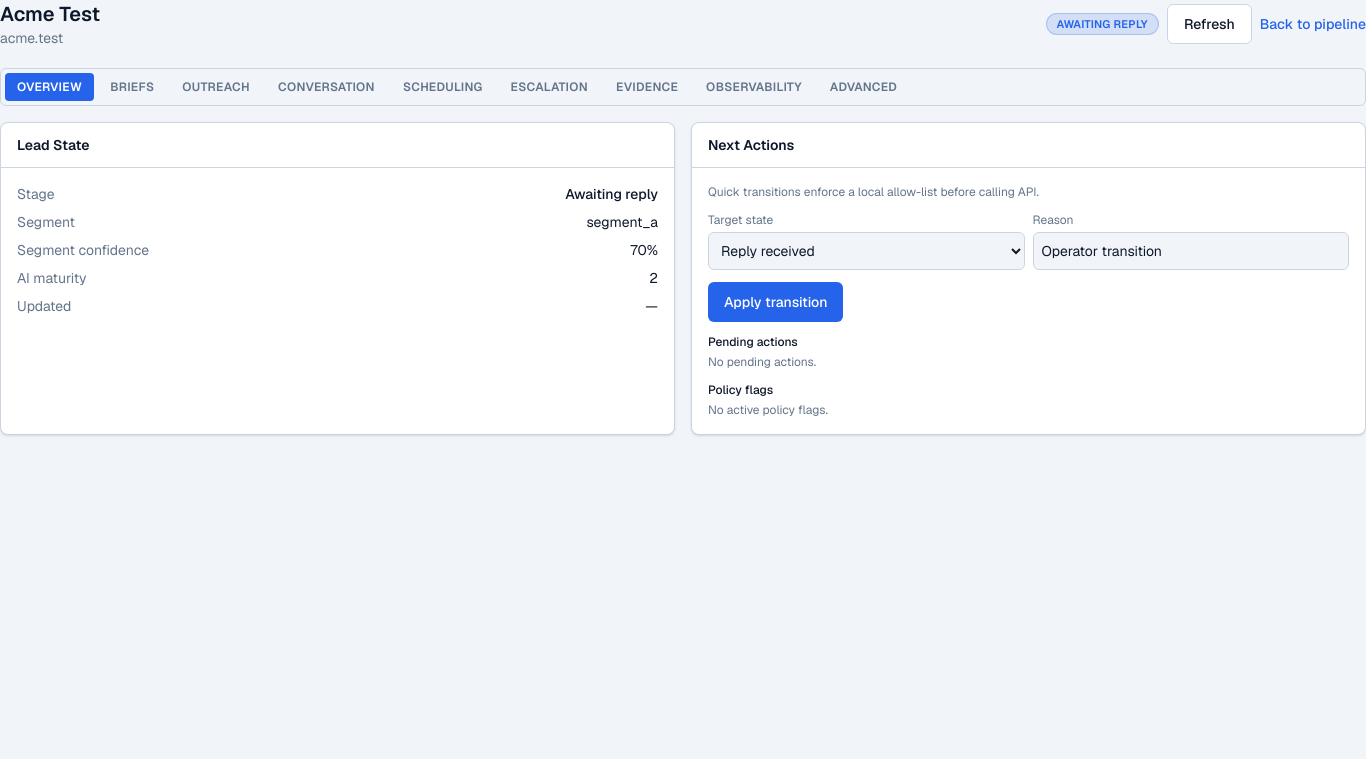
Test: LeadDetail › sends scheduling SMS follow-up when schedule action is active
The image size is (1366, 759).
expect the heading "Acme Test" is shown: met, box [0,0,100,28]
Click the tab "Conversation" at point(326, 87), box [266,73,387,101]
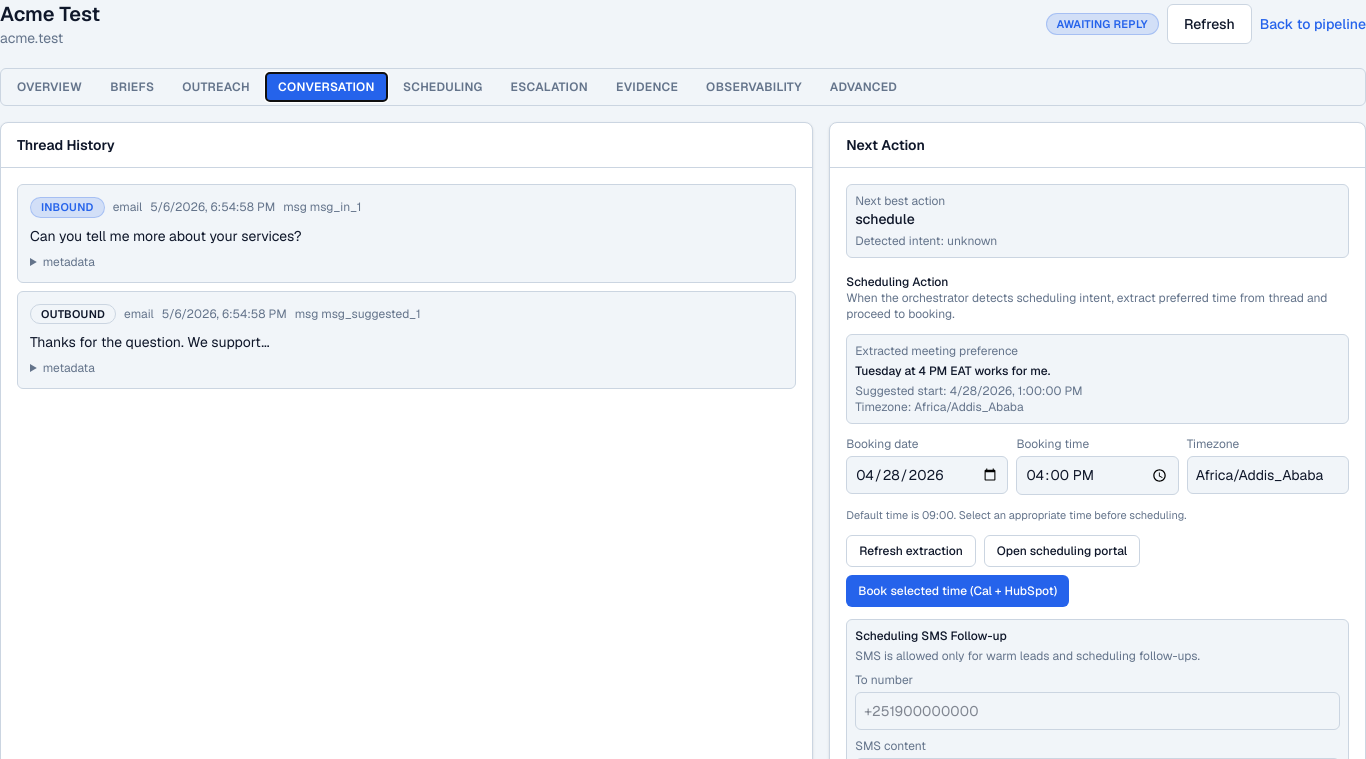
Type "+251900000123" into the field labelled "To number" at point(1098, 711), box [855,692,1340,730]
(page scrolled)
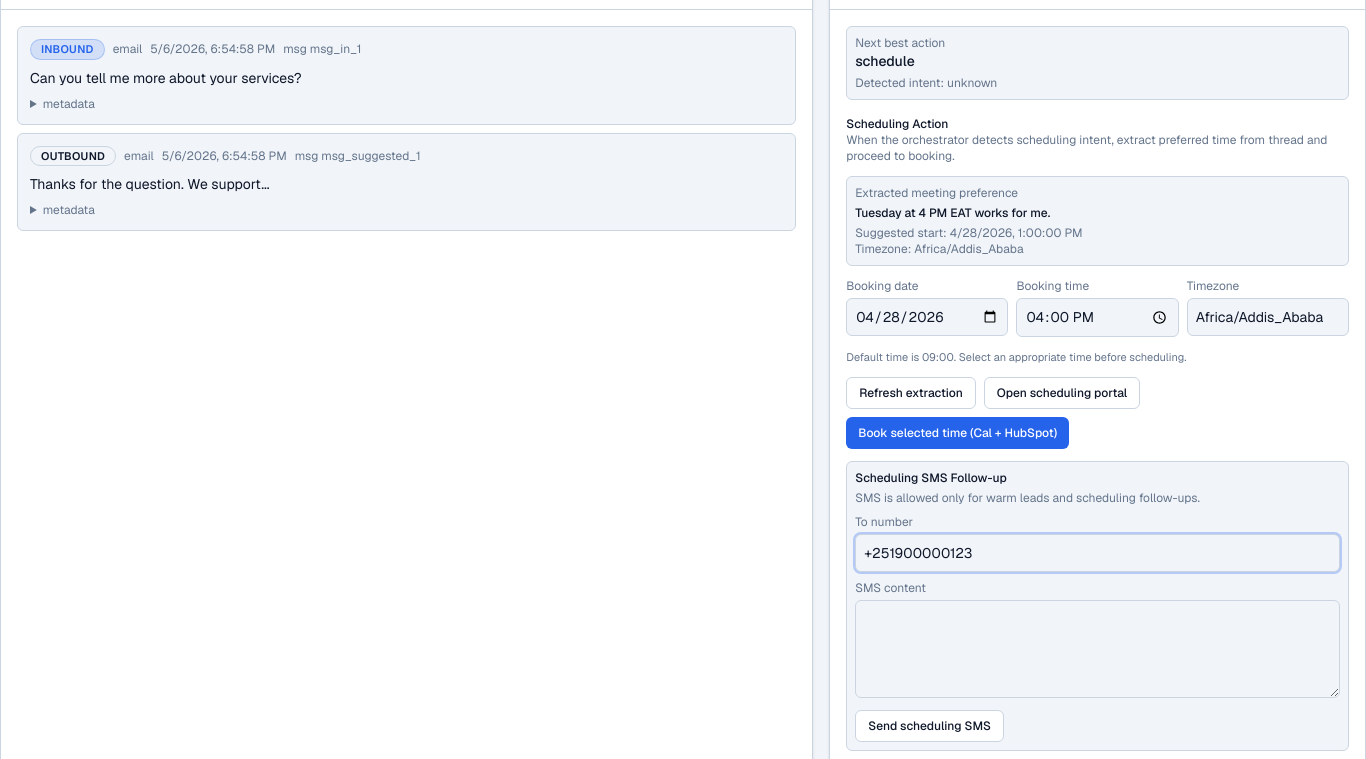
Type "Confirming Tuesday 4 PM EAT." into the text box labelled "SMS content" at point(1098, 649), box [855,600,1340,698]
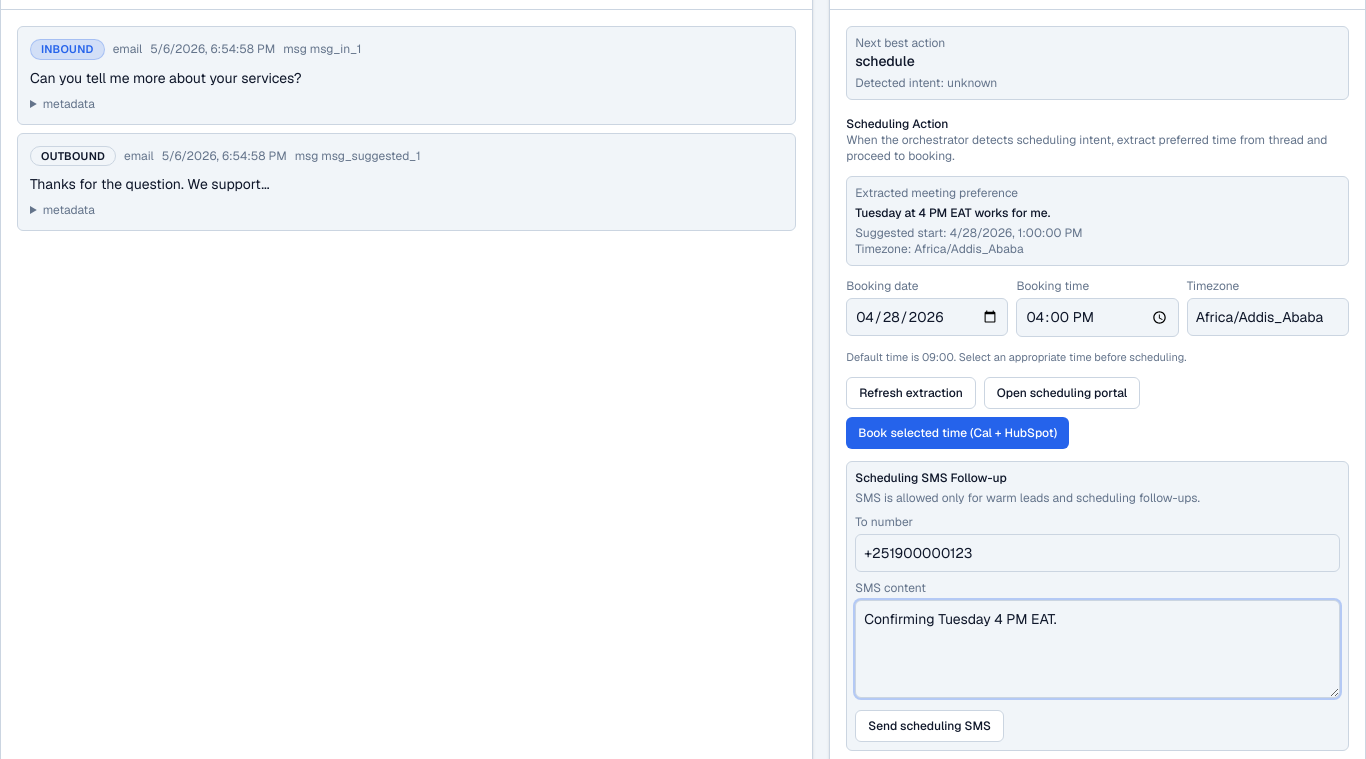
Click the button "Send scheduling SMS" at point(930, 726), box [855,710,1004,742]
(page scrolled)
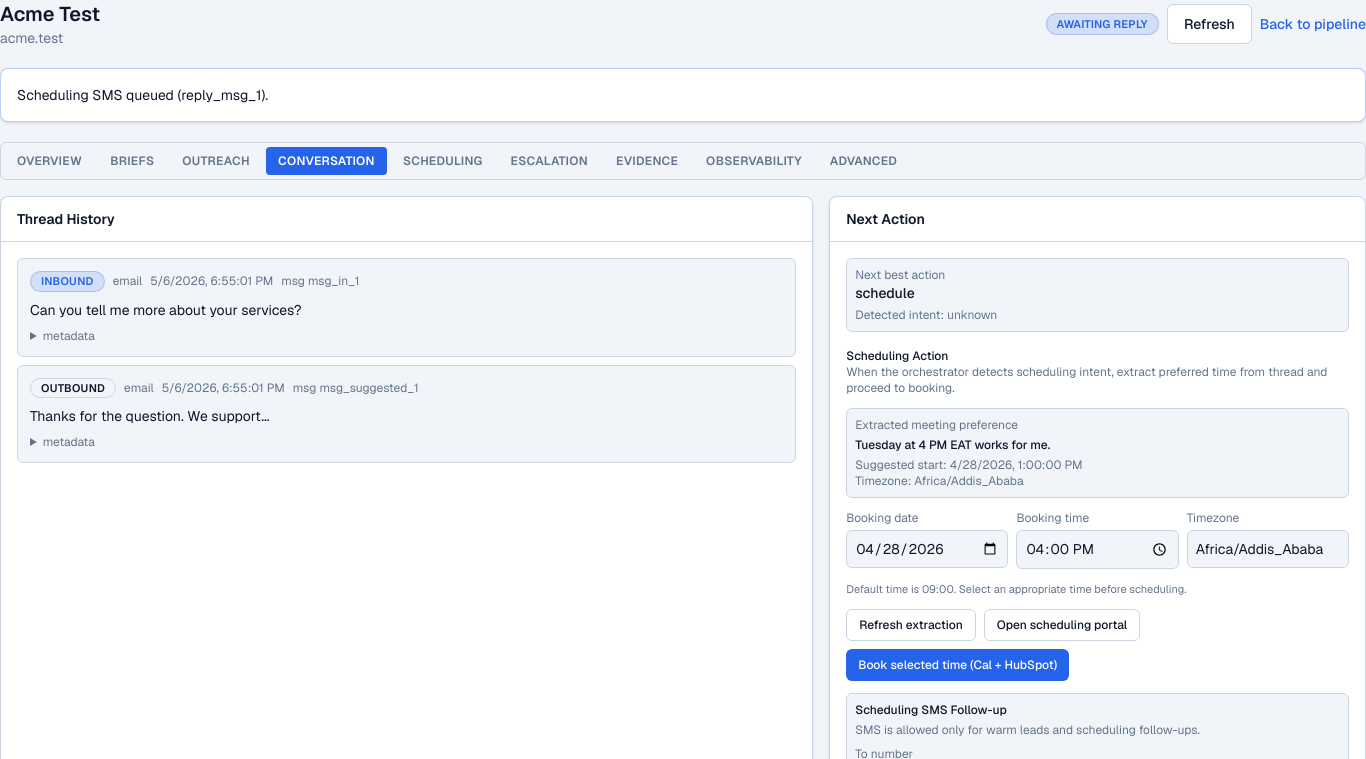
expect the text "Scheduling SMS queued (reply_msg_1)." is shown: met, box [17,86,268,104]
